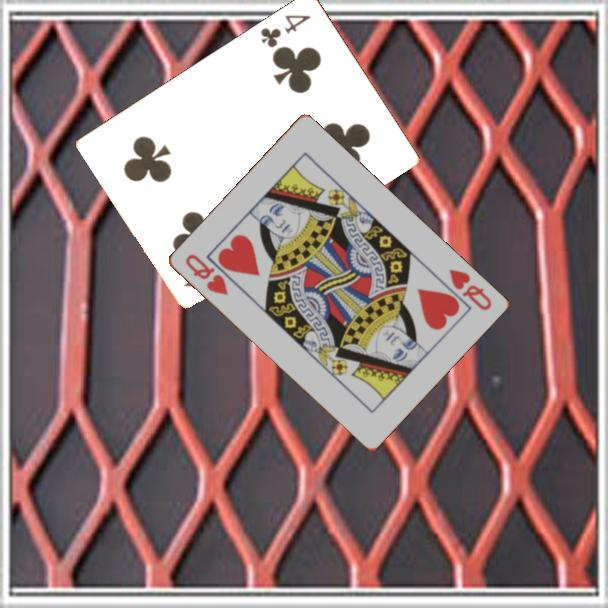c04: (257, 11, 314, 50)
h12: (181, 250, 231, 298), (445, 265, 494, 313)
